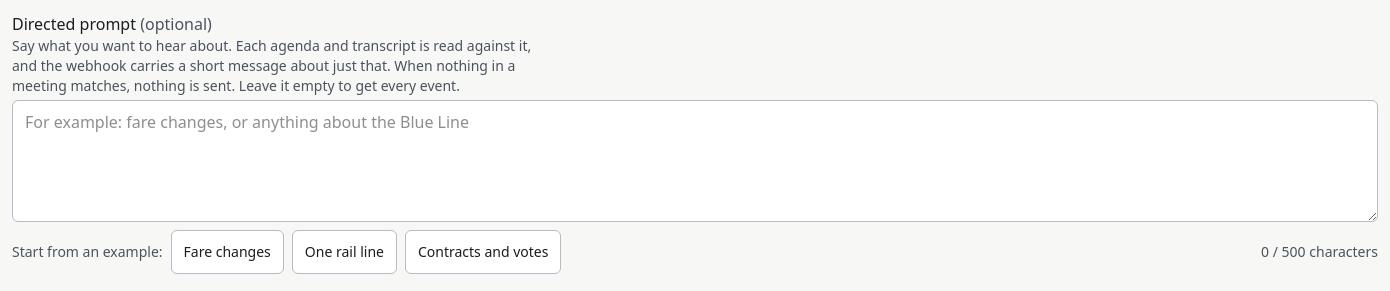
PromptField › fills the field from an example and hides the examples
What coordinates should you click on to do the following:
click the button "One rail line"
I would click on:
 (344, 252)
Its box is x1=292 y1=230 x2=397 y2=274.
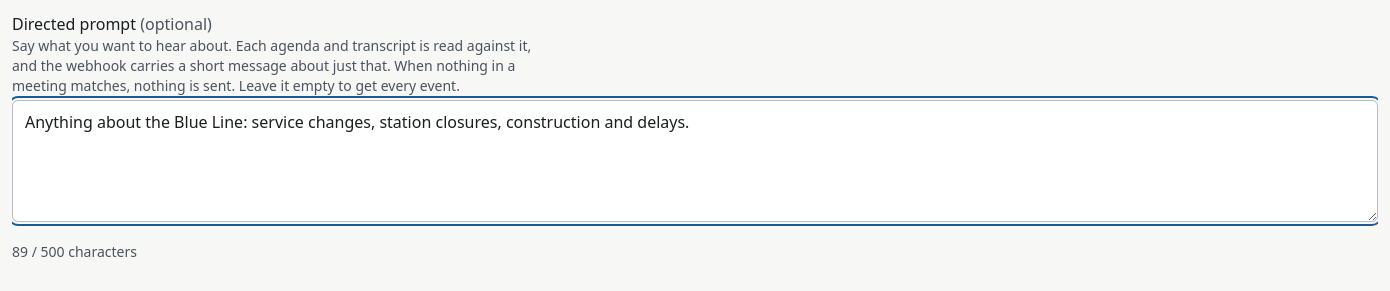
Check: the text box labelled "Directed prompt (optional)" holds "Anything about the Blue Line: service changes, station closures, construction and delays.", box x1=12 y1=100 x2=1378 y2=222
Check: the button "Fare changes" is gone
